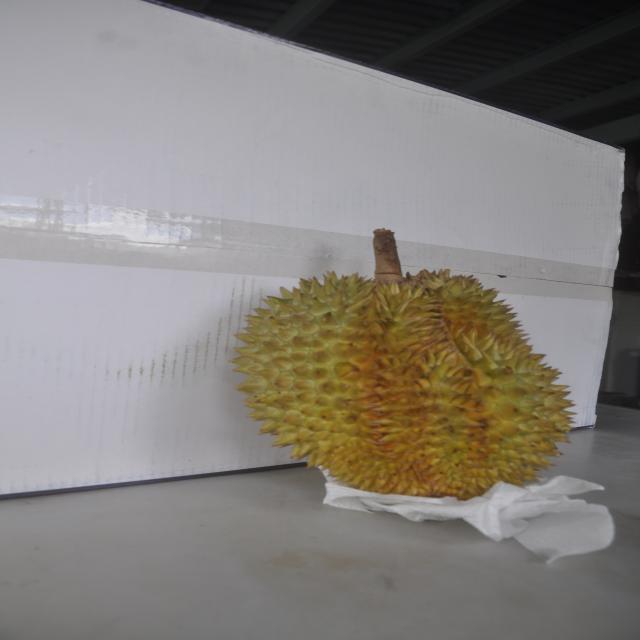mature: (228, 251, 581, 498)
